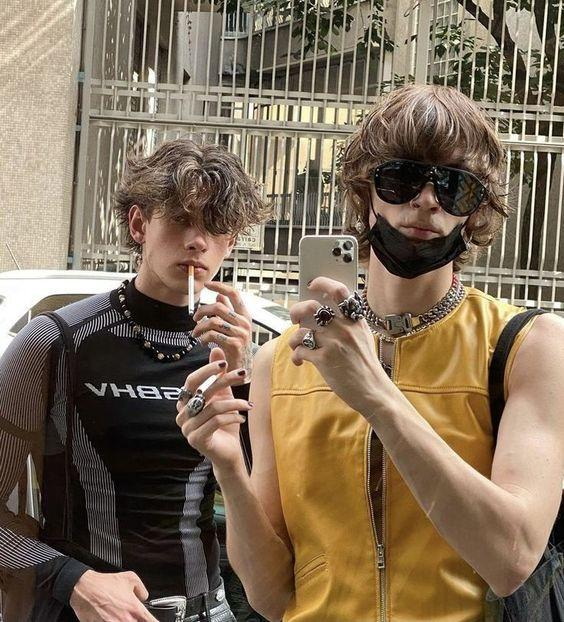cigarette: (195, 369, 227, 396), (188, 264, 194, 316)
